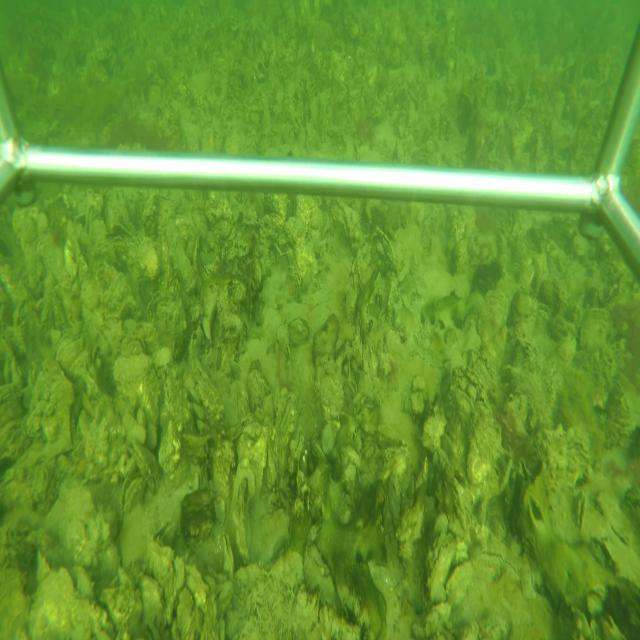Oyster-Closed: (305, 542, 343, 613), (232, 470, 253, 566), (426, 531, 455, 600), (376, 224, 394, 269), (222, 531, 234, 576), (365, 268, 379, 303), (313, 441, 328, 460)
Oyster-Open: (118, 467, 145, 519), (574, 488, 589, 536)
